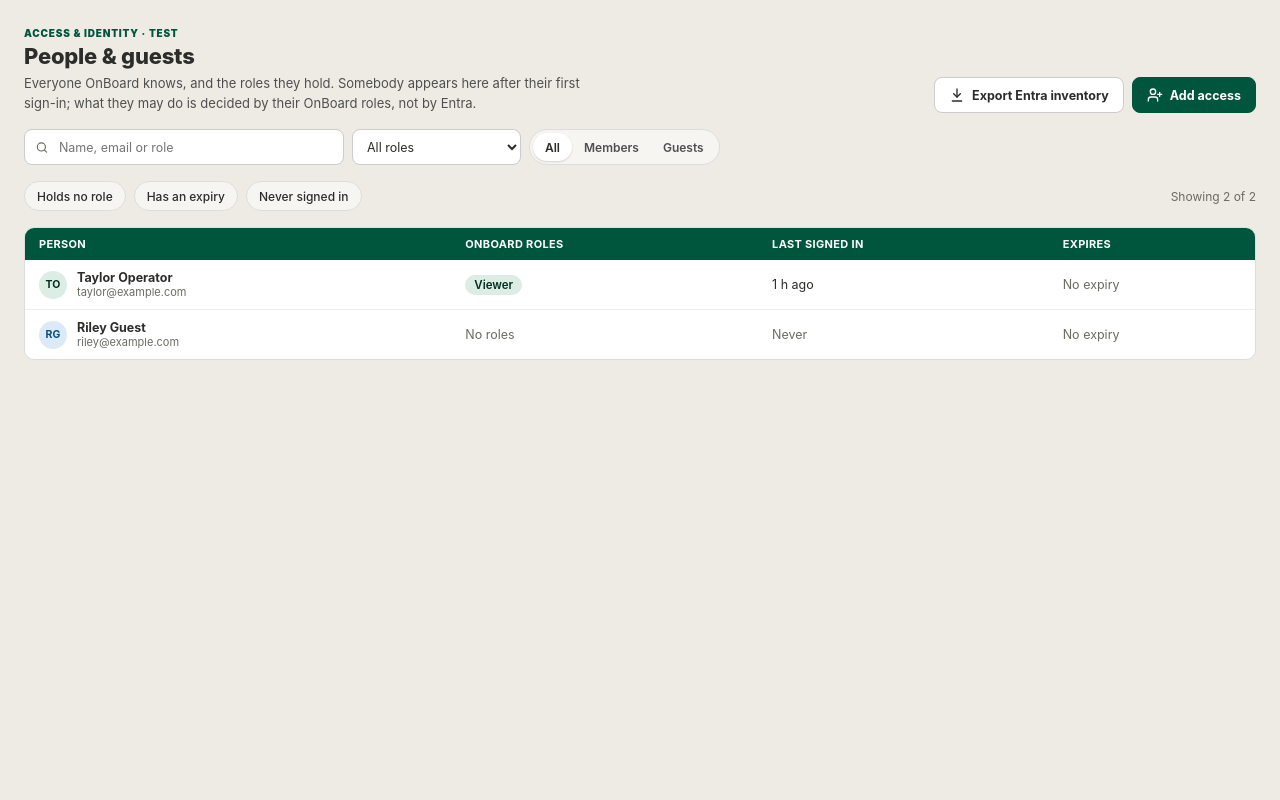
Test case: People & guests › shows a guest's sponsor and organization on their own record
Click the button "Riley Guest" at [111, 328], box [77,320,146,335]
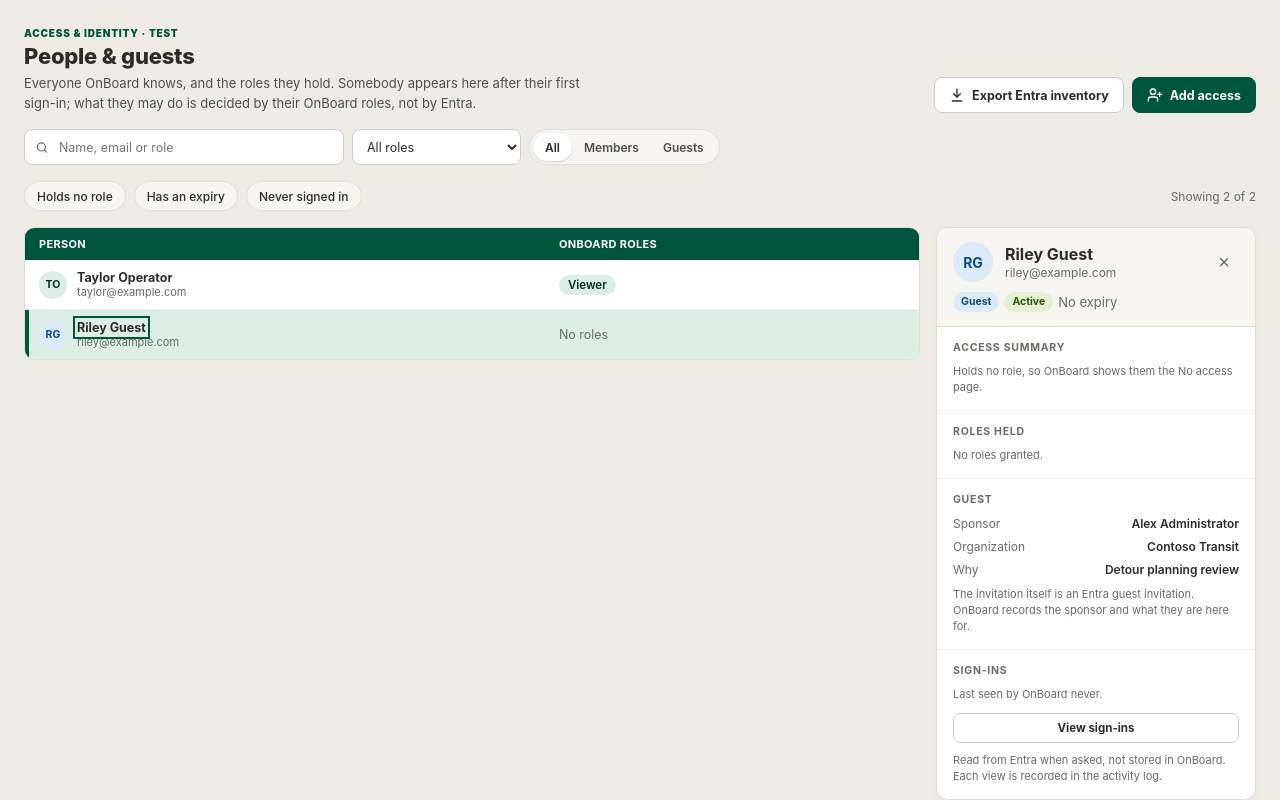
Expected: the text "Contoso Transit" is shown, [1147,539,1239,554]
Expected: the text "Alex Administrator" is shown, [1131,516,1239,531]
Expected: the text "Holds no role, so OnBoard shows them the No access page." is shown, [953,364,1239,396]
